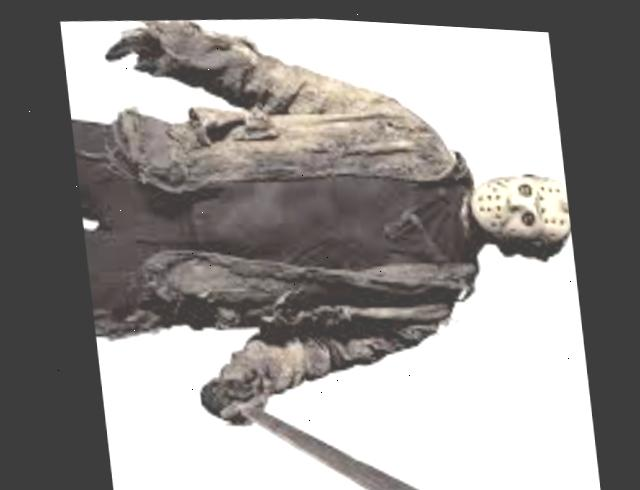long knife: (201, 371, 459, 490)
